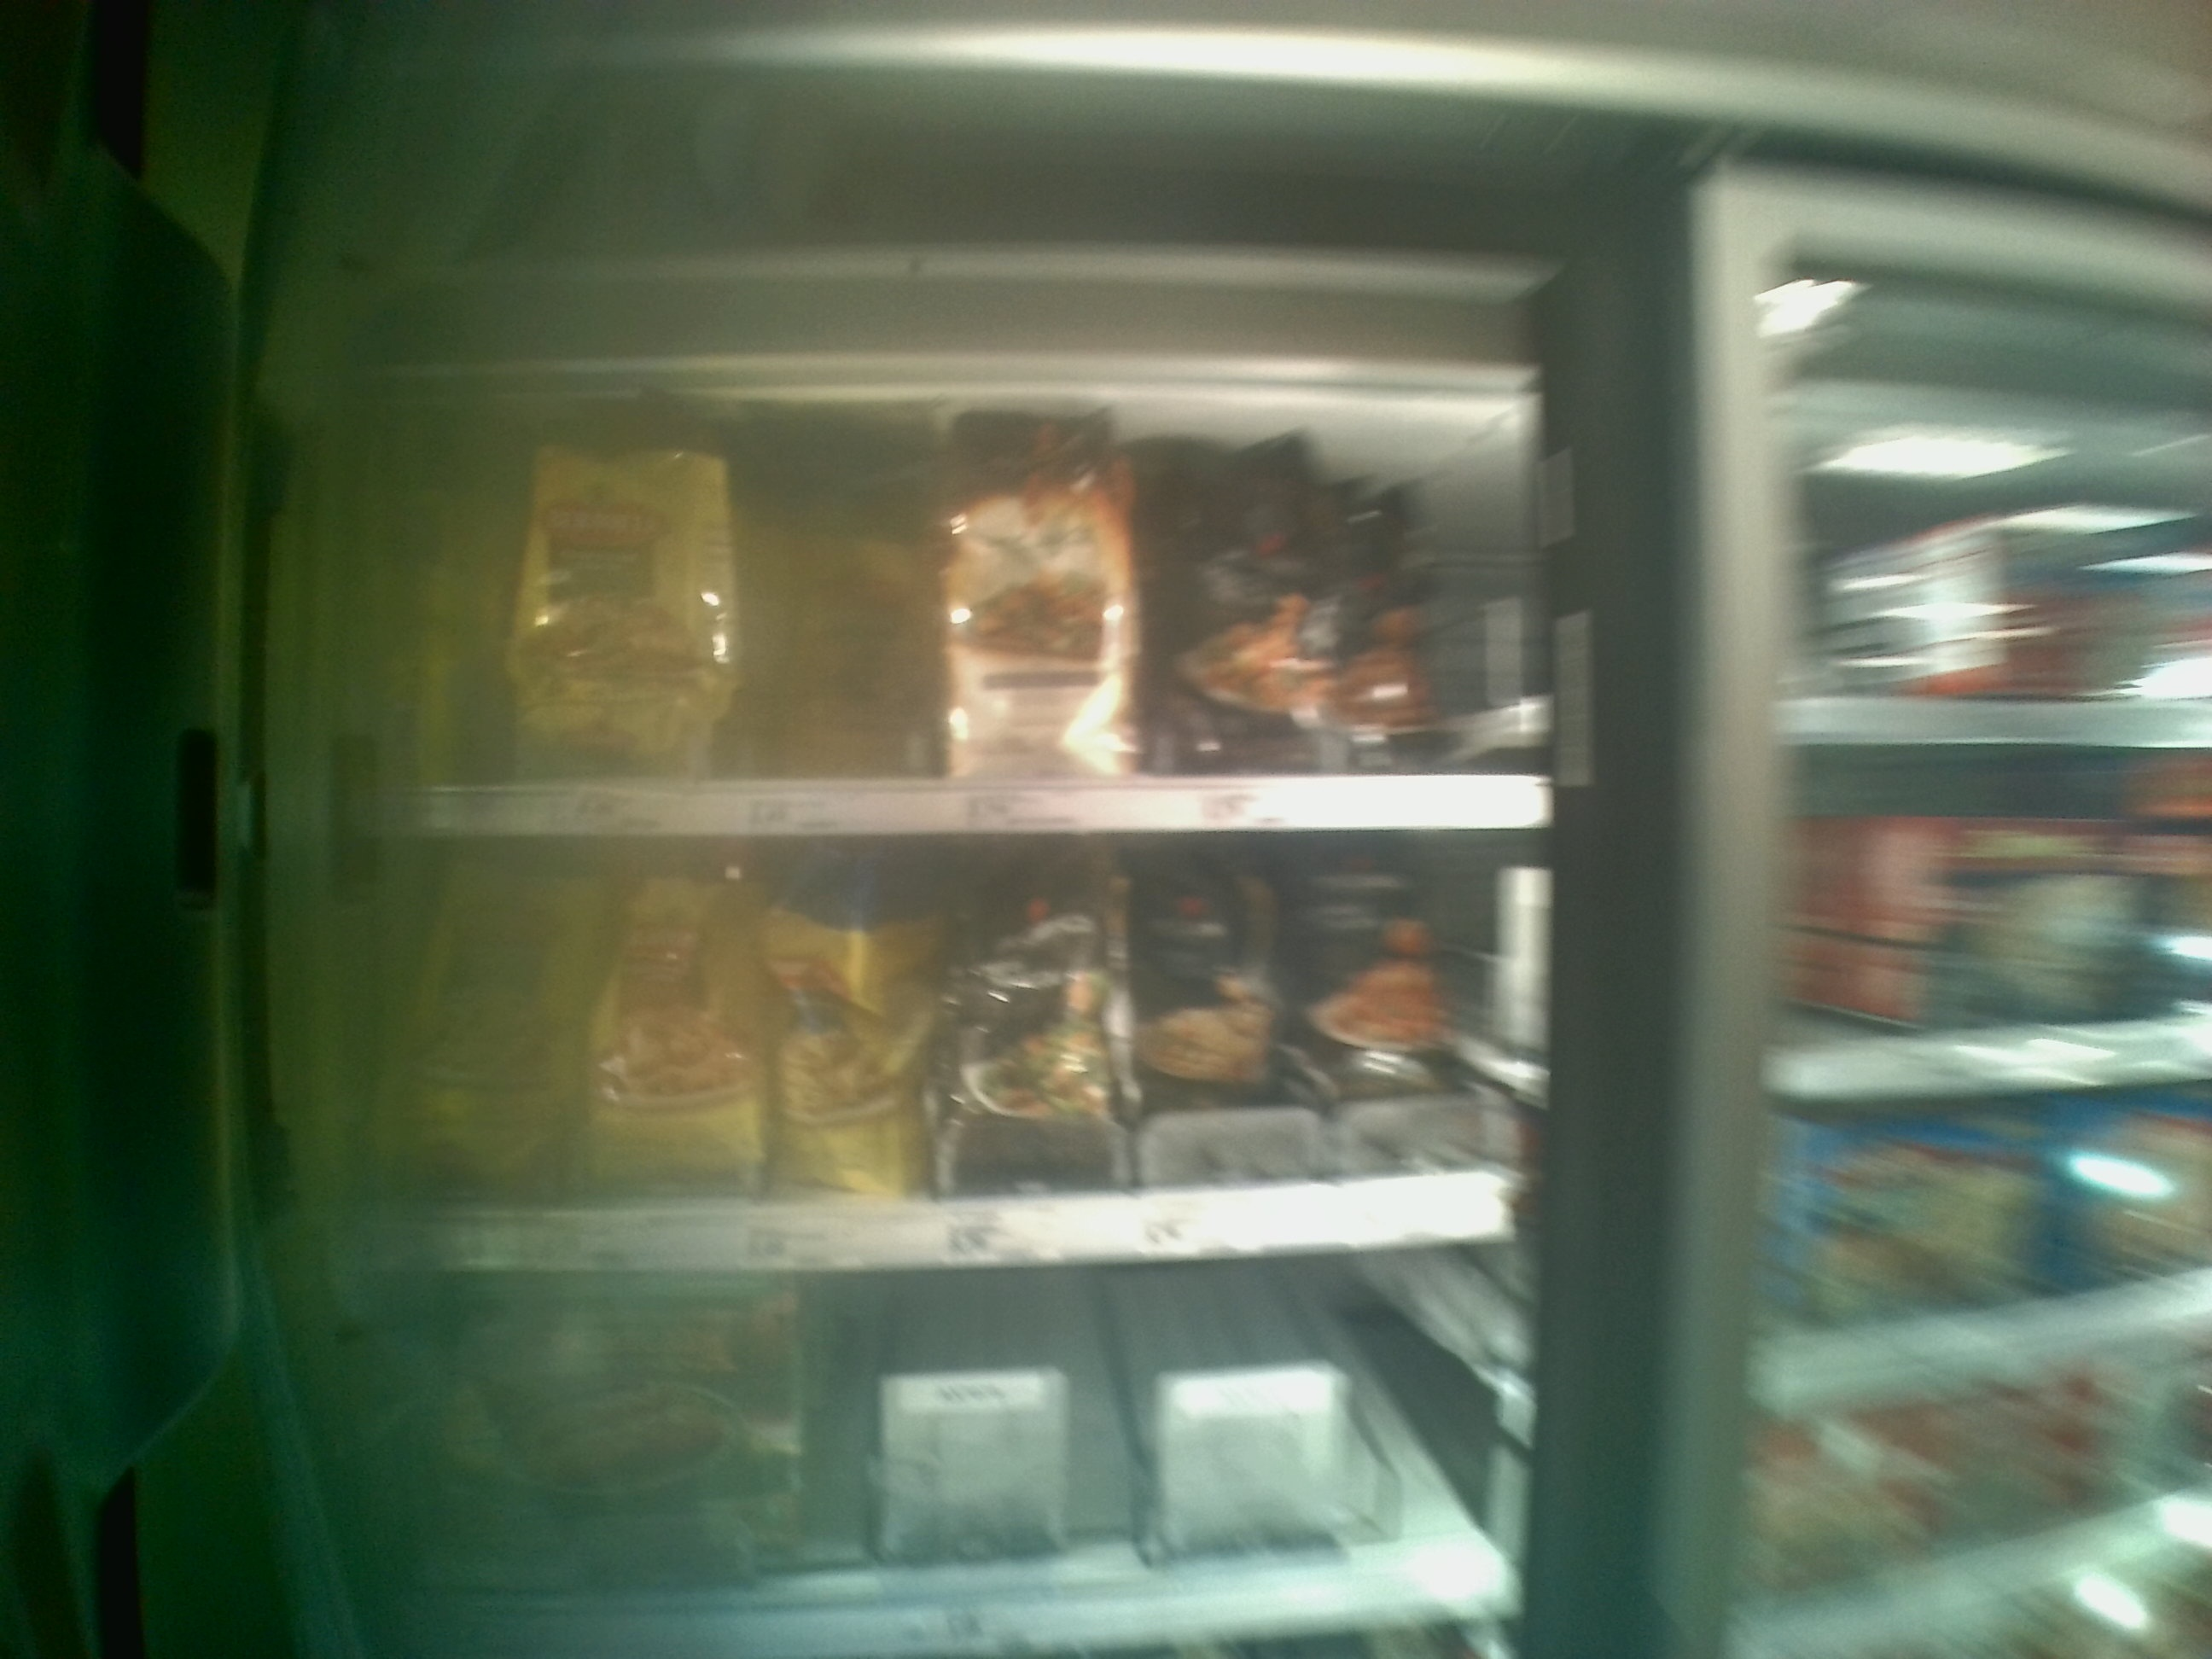shelf: (378, 408, 1548, 836), (378, 838, 1538, 1270), (380, 1281, 1522, 1659)
